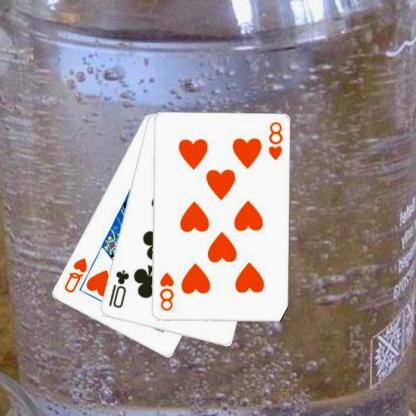10C: (107, 267, 132, 310)
8H: (158, 270, 176, 312), (267, 120, 285, 162)
QH: (62, 255, 90, 295)
